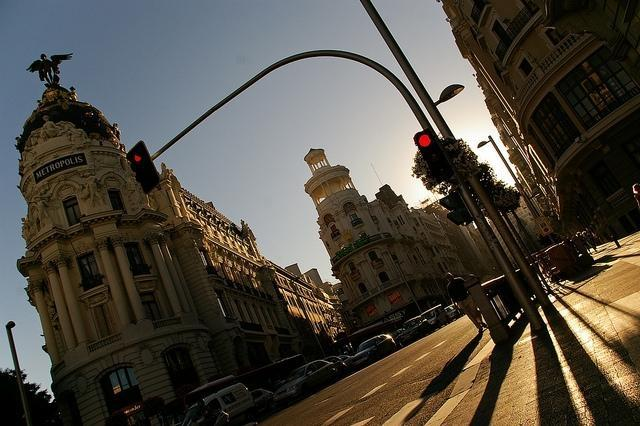car: (181, 383, 256, 426), (274, 359, 336, 403), (350, 334, 397, 368), (396, 315, 434, 347), (420, 304, 450, 330), (250, 389, 277, 416), (325, 356, 348, 379), (338, 355, 354, 371), (444, 304, 459, 320)
